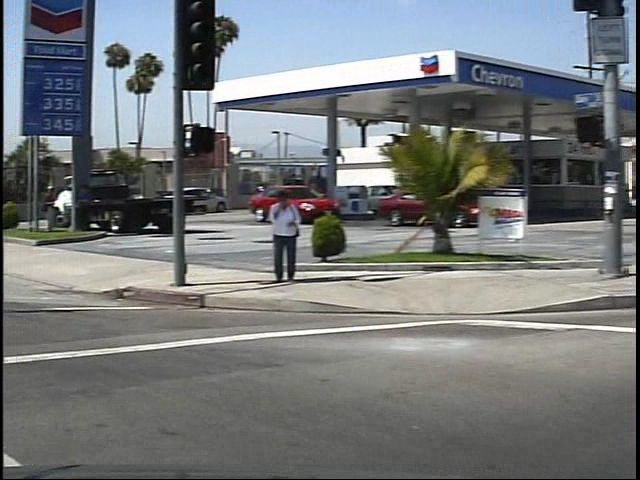person: (257, 188, 294, 288), (33, 183, 52, 237)
